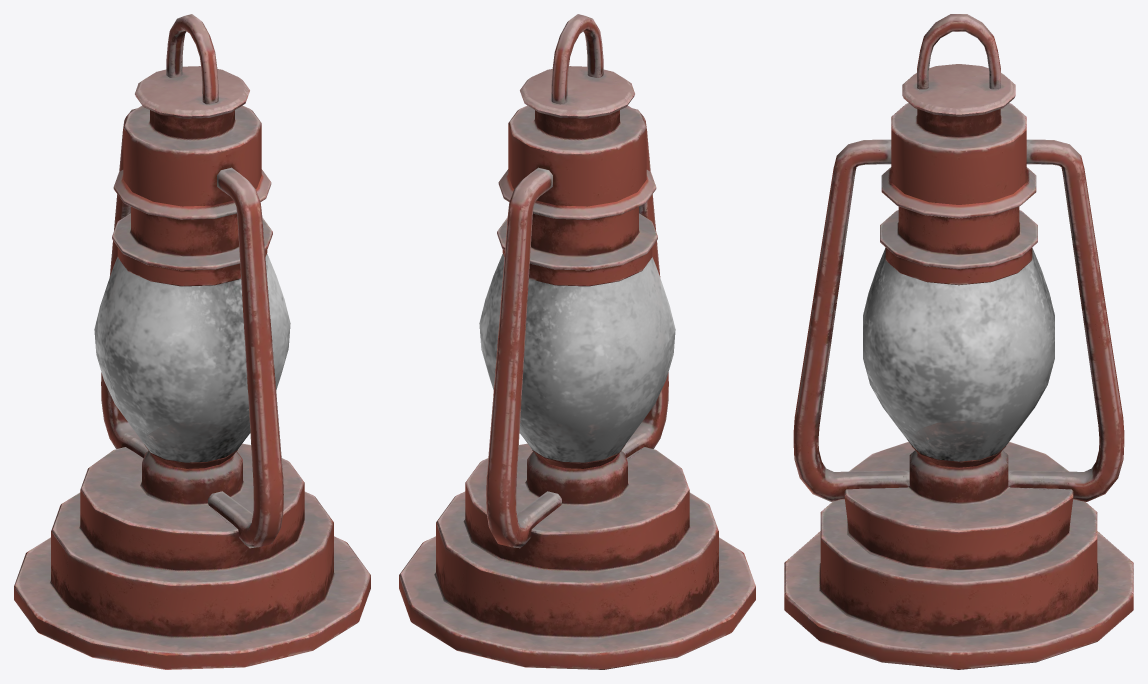
File: Lamp_LP.glb
3 renders of one model, left to right at view 1: azimuth 30°, elevation 25°; view 2: azimuth 150°, elevation 25°; view 3: azimuth 270°, elevation 25°, orthographic.
Parts seen in each view (by area): view 1: Lamp_LP; view 2: Lamp_LP; view 3: Lamp_LP.
Boxes of the visible parts, left/top/right/bottom form: Lamp_LP: left=14, top=14, right=370, bottom=669; Lamp_LP: left=399, top=14, right=755, bottom=669; Lamp_LP: left=784, top=14, right=1133, bottom=669.
Bounding box in the file's own units: 0.273 × 0.4865 × 0.2662.
Materials: 2 (2 with a texture image).
